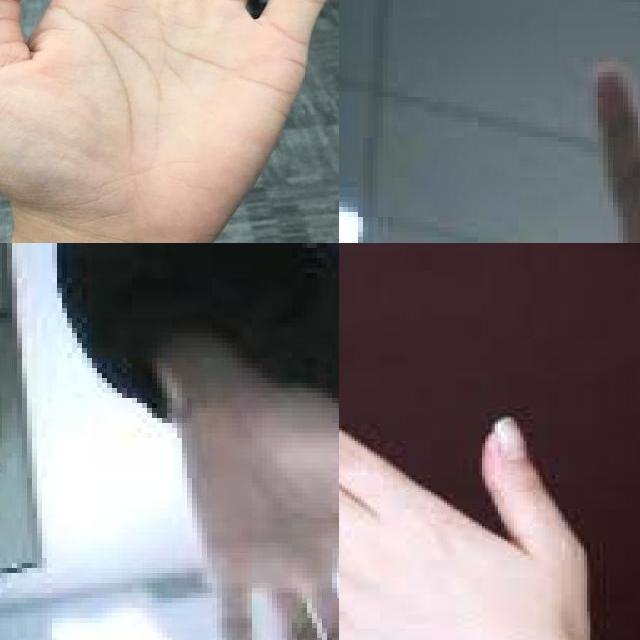no-gloves: (0, 0, 339, 243), (339, 366, 620, 640), (172, 383, 339, 640), (473, 42, 640, 243)
